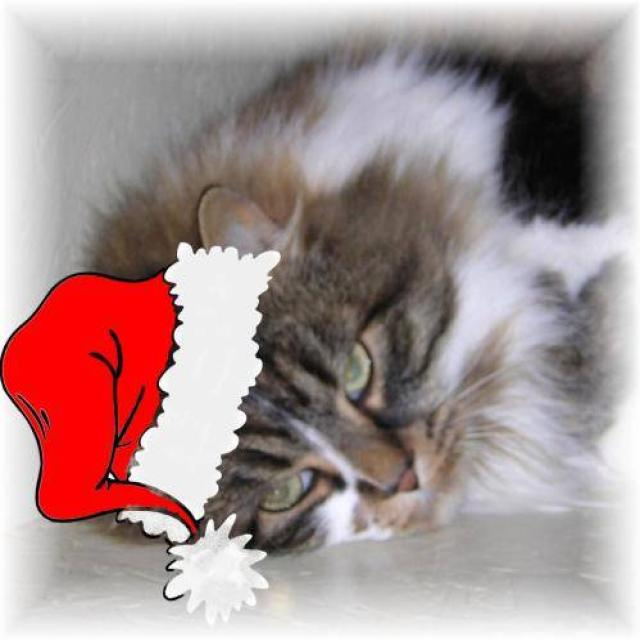cat: (78, 21, 638, 560)
